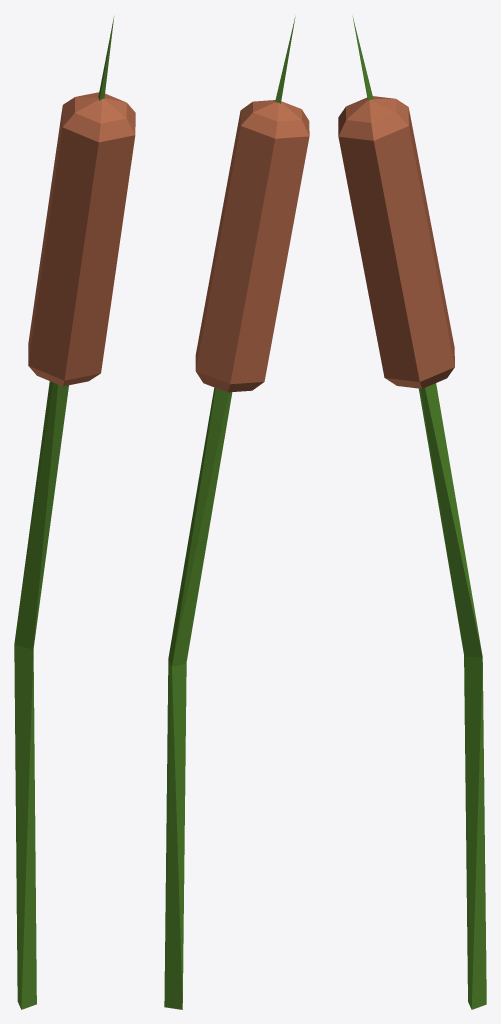
File: Hilly_Prop_Cattail_1.obj
3 renders of one model, left to right at view 1: azimuth 90°, elevation 25°; view 2: azimuth 150°, elevation 25°; view 3: azimuth 330°, elevation 25°, orthographic. The views are drawn at different scales.
Visible parts, largest first — view 1: object4, object1, object3; view 2: object4, object1, object3; view 3: object4, object1, object3.
Part boxes in pixels (bbox=[...]): object4: bbox=[28, 92, 135, 386]; object1: bbox=[14, 644, 36, 1009]; object3: bbox=[14, 16, 114, 649]; object4: bbox=[195, 100, 309, 392]; object1: bbox=[164, 659, 186, 1009]; object3: bbox=[168, 17, 295, 666]; object4: bbox=[338, 96, 454, 388]; object1: bbox=[464, 656, 486, 1009]; object3: bbox=[352, 16, 482, 657].
Size of the model in its own units: 0.0816 by 0.7053 by 0.0752.
